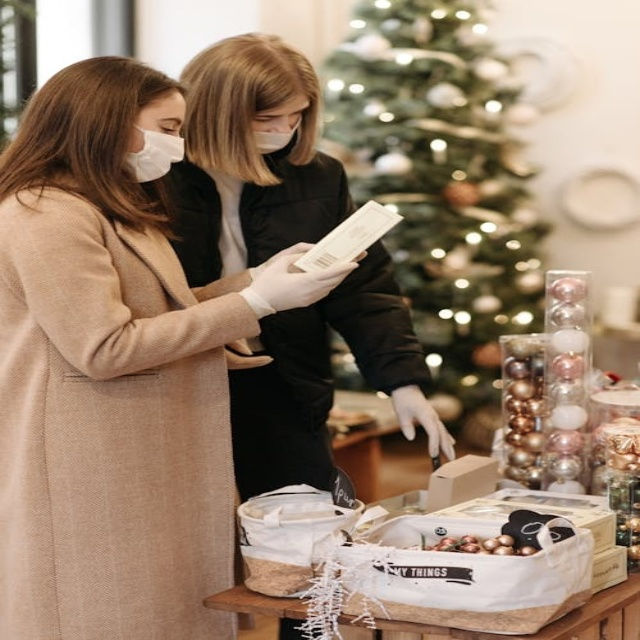Guantes: (241, 235, 378, 314), (384, 380, 466, 463)
Mascara: (125, 125, 187, 183), (251, 119, 300, 152)
Sin_gafas: (248, 97, 319, 127), (129, 114, 188, 135)
